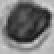correct: (3, 2, 53, 50)
